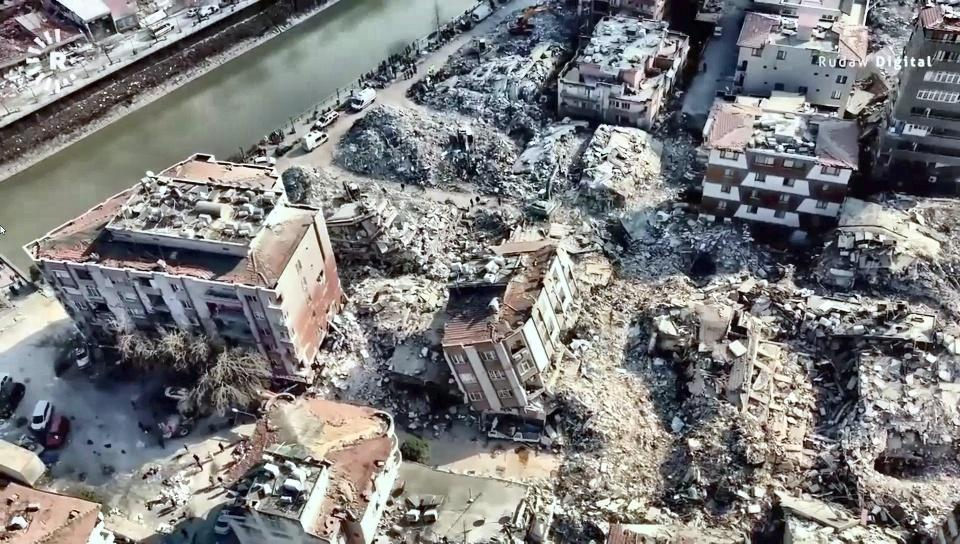kapali: (457, 419, 959, 543)
